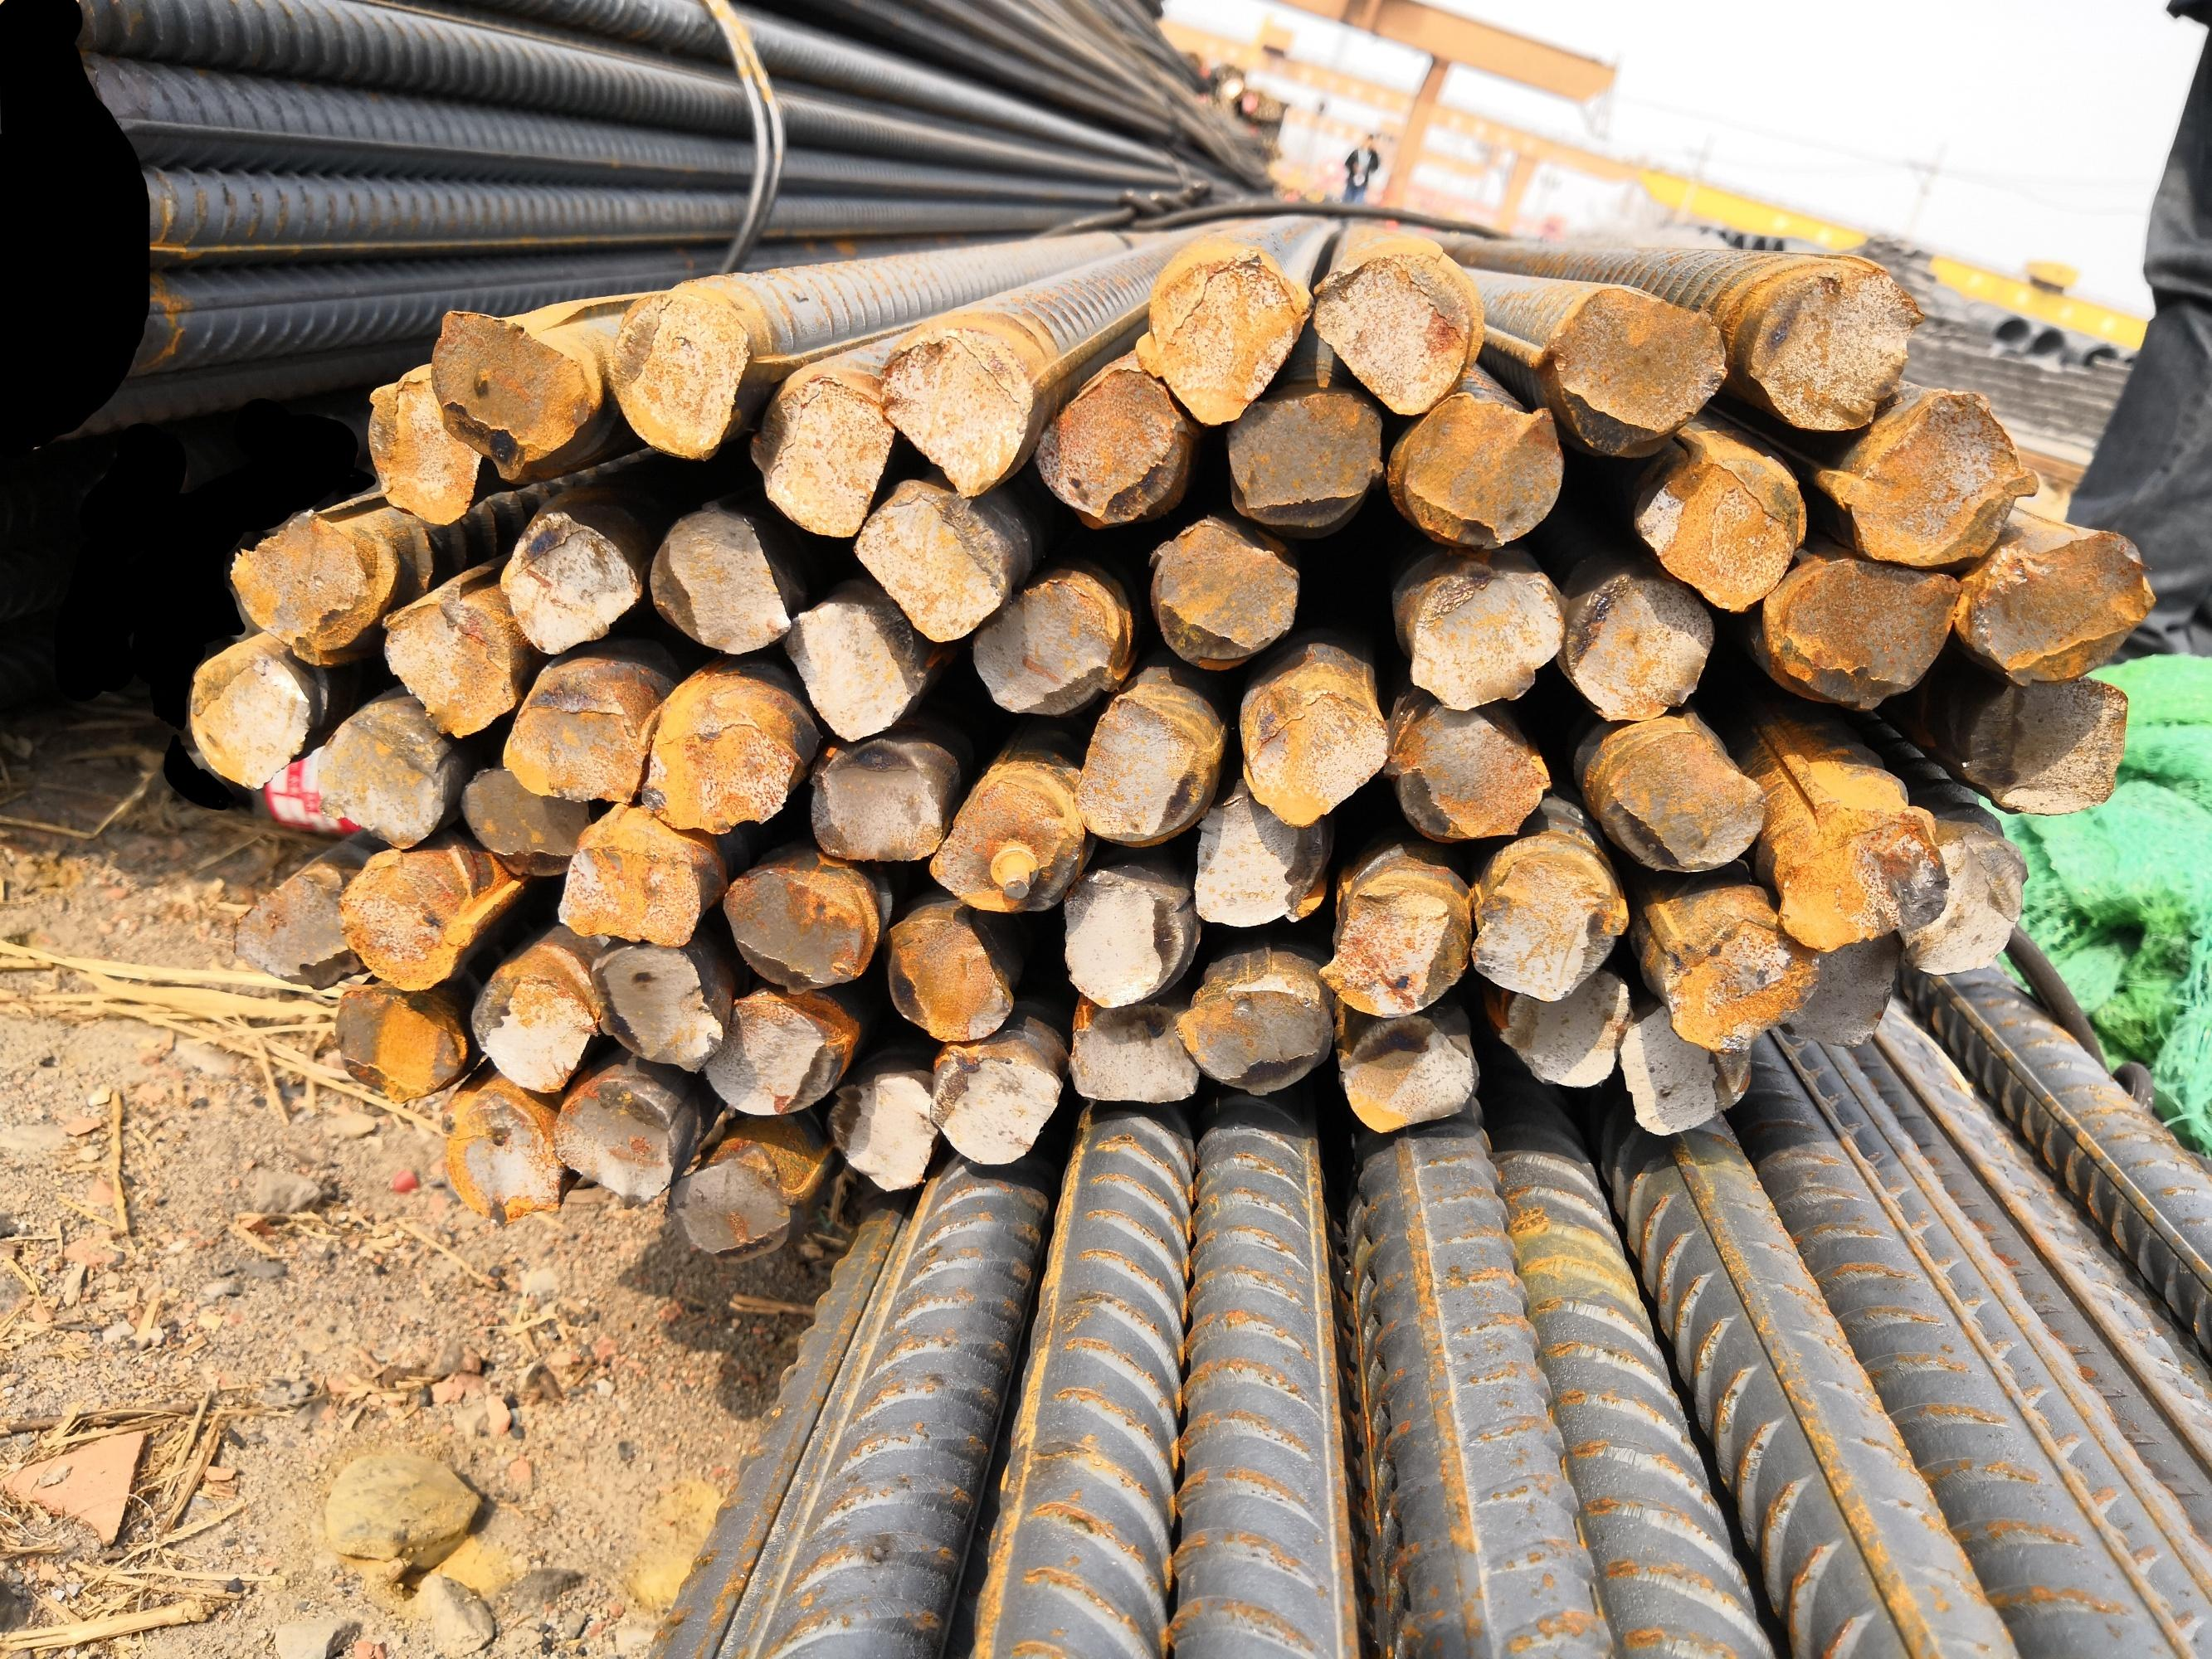bar: (1815, 383, 2044, 572), (1530, 277, 1731, 457), (1738, 252, 1925, 439), (1753, 556, 1965, 710), (1953, 528, 2155, 687), (1133, 246, 1306, 426), (874, 320, 1042, 504), (425, 304, 593, 482), (1389, 388, 1566, 552), (1308, 246, 1474, 416), (1632, 454, 1807, 614), (1557, 562, 1723, 730), (1767, 806, 1951, 953), (1395, 557, 1566, 712), (1592, 727, 1766, 878), (743, 369, 896, 540), (1956, 669, 2129, 820), (1143, 512, 1303, 674), (1028, 363, 1186, 528), (848, 484, 1009, 643), (604, 286, 751, 460), (1468, 847, 1627, 1001), (923, 768, 1087, 917), (1654, 908, 1822, 1053), (1217, 388, 1386, 531), (1318, 866, 1473, 1020), (970, 567, 1127, 720), (1071, 686, 1220, 846), (646, 500, 793, 659), (1389, 704, 1555, 844), (1238, 679, 1388, 829), (499, 664, 654, 809), (719, 857, 876, 998), (1895, 822, 2032, 982), (499, 508, 641, 661), (639, 708, 799, 839), (378, 595, 521, 740), (875, 901, 1020, 1044), (224, 505, 370, 647), (313, 702, 446, 853), (1173, 972, 1330, 1101), (1188, 787, 1328, 931), (779, 596, 918, 742), (1055, 864, 1188, 1010), (186, 643, 314, 793), (557, 815, 702, 946), (1618, 1000, 1754, 1137), (336, 855, 474, 990), (1332, 1014, 1481, 1136), (586, 943, 722, 1075), (806, 736, 946, 864), (375, 364, 481, 528), (1776, 922, 1907, 1054), (1492, 966, 1630, 1092), (925, 1045, 1065, 1169), (468, 968, 599, 1097), (703, 993, 839, 1117), (548, 1078, 680, 1204), (331, 983, 468, 1103), (457, 761, 593, 881), (439, 1094, 562, 1223), (661, 1141, 793, 1259), (1063, 995, 1201, 1108), (227, 870, 358, 987), (821, 1068, 942, 1194)
